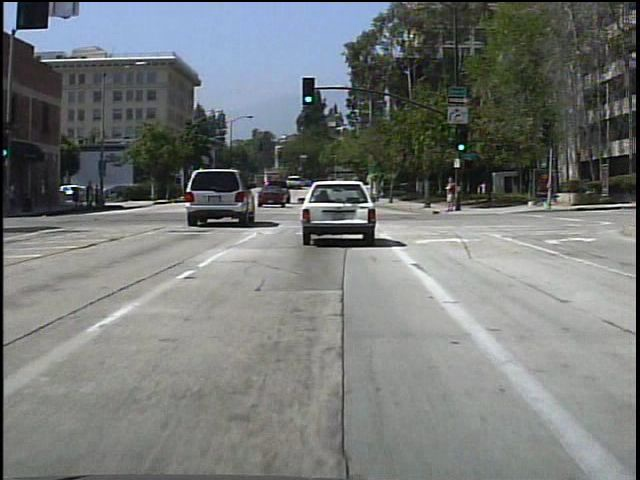person: (441, 172, 460, 216), (86, 179, 97, 211), (99, 182, 100, 208)
